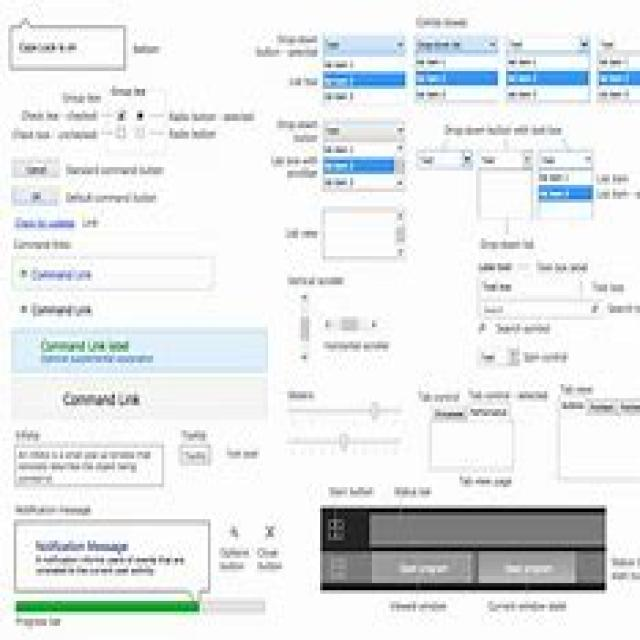button: (475, 548, 579, 589), (369, 550, 473, 585), (6, 180, 64, 210), (9, 152, 63, 178), (176, 441, 216, 471), (223, 518, 246, 544), (261, 518, 280, 546)
dropdownMenu: (8, 298, 266, 427), (9, 252, 216, 294), (412, 31, 500, 109), (502, 33, 592, 108), (321, 30, 408, 106), (322, 119, 407, 192), (475, 147, 534, 226), (538, 149, 594, 222), (414, 148, 473, 172)
label: (30, 537, 188, 580), (8, 86, 99, 140), (17, 447, 153, 482), (252, 26, 318, 92), (267, 112, 319, 182), (169, 108, 257, 142), (439, 120, 572, 140), (63, 159, 170, 179), (67, 188, 163, 210), (8, 214, 108, 234), (593, 165, 640, 204), (325, 474, 376, 501), (285, 270, 350, 290), (320, 336, 394, 353), (13, 501, 96, 516), (609, 549, 640, 586), (477, 238, 543, 255), (458, 471, 514, 491), (216, 543, 252, 574), (223, 443, 265, 469), (10, 235, 76, 251), (411, 14, 474, 30), (281, 221, 319, 245), (394, 483, 439, 501), (256, 546, 285, 573), (110, 79, 151, 97), (130, 40, 165, 61)
slider: (284, 430, 409, 457), (283, 398, 407, 419), (321, 308, 382, 334), (298, 287, 312, 365), (393, 200, 408, 266), (135, 123, 167, 141), (102, 122, 128, 143), (134, 106, 168, 122), (100, 108, 129, 119)
tabControl: (428, 401, 520, 434), (556, 395, 640, 424)
upDown: (471, 343, 522, 368)
